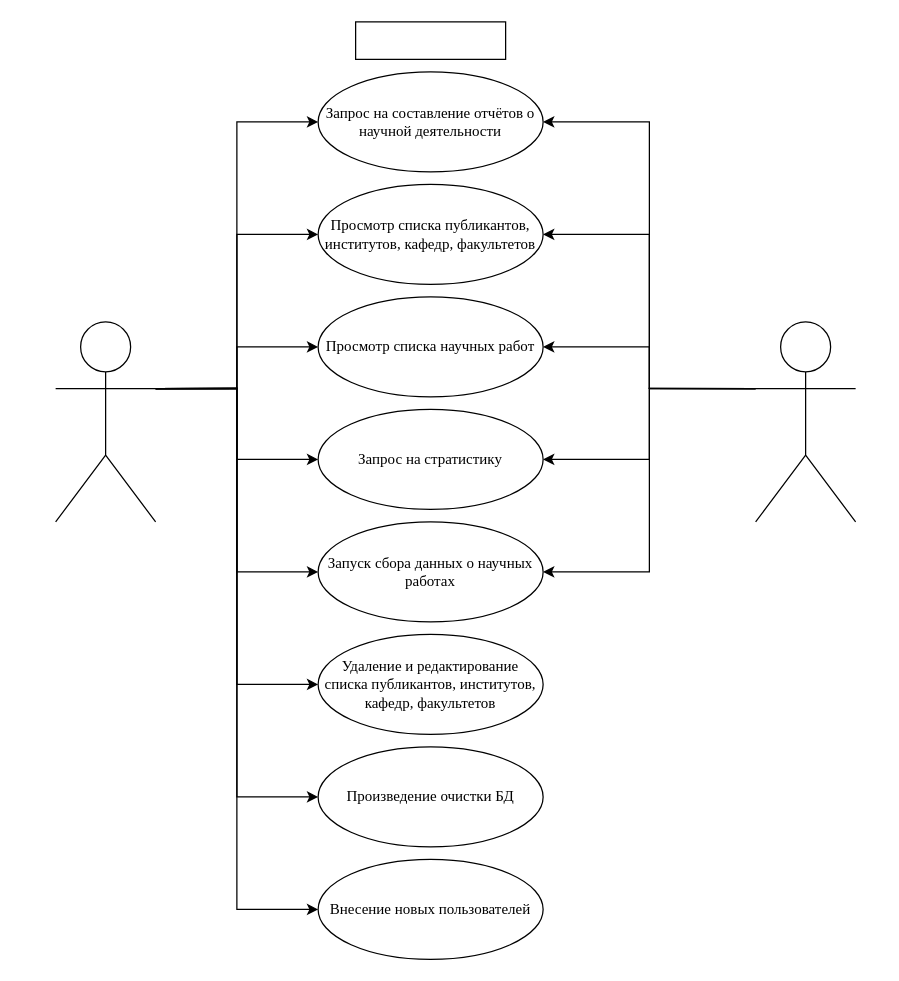
Image size: 899x981. Some labels were removed from this diagram. The shapes that lost their labels are listed below. From the top down, each one's box as (x1, y1, x2, y2) in pixels, then its label:
(354, 21, 506, 59): Сервер
(54, 321, 156, 522): Администратор
(754, 321, 856, 522): Пользователь
